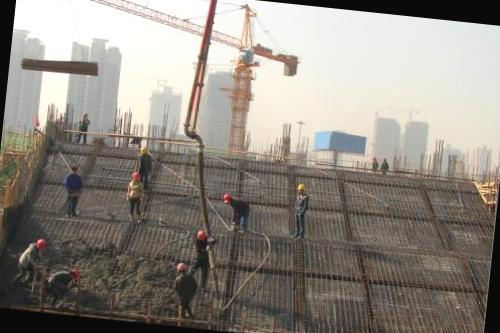no_helmet: (68, 161, 80, 175)
